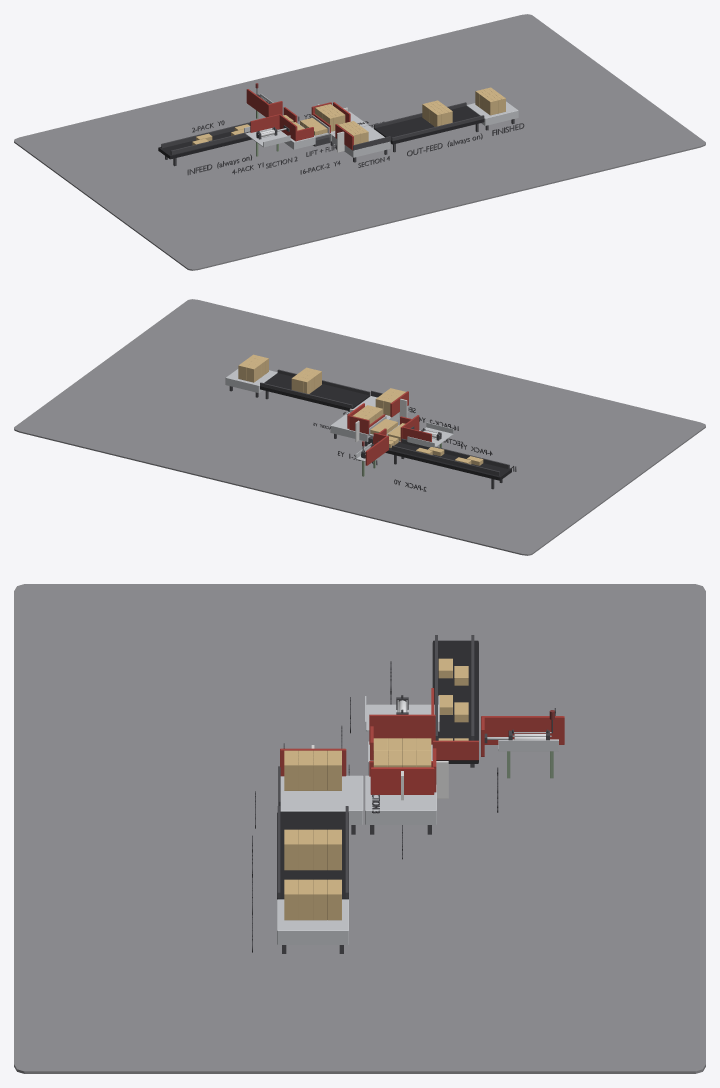
The model's file is pack-machine.glb.
The picture shows the model from 3 angles, top to bottom: view 1: azimuth 30°, elevation 25°; view 2: azimuth 150°, elevation 25°; view 3: azimuth 270°, elevation 25°; orthographic projection. The views are drawn at different scales.
Parts seen in each view (by area): view 1: Floor, OutfeedBed, InfeedBed, Sec4Deck, FinishedDeck, InfeedRailS, OutfeedRailS; view 2: Floor, OutfeedBed, InfeedBed, InfeedRailN, FinishedDeck, Sec3Deck, InfeedRailS, OutfeedRailN; view 3: Floor, InfeedBed, OutfeedBed, Sec4Deck, Sec3Deck, FinishedDeck, Push16aPlateHold, Push4Plate, Push2EntryGate, EndStop.
Part boxes in pixels (x1=…): Floor: x1=14, y1=14, x2=705, y2=270; OutfeedBed: x1=374, y1=106, x2=484, y2=144; InfeedBed: x1=158, y1=129, x2=278, y2=159; Sec4Deck: x1=331, y1=125, x2=390, y2=157; FinishedDeck: x1=466, y1=101, x2=518, y2=125; InfeedRailS: x1=170, y1=131, x2=250, y2=155; OutfeedRailS: x1=391, y1=115, x2=484, y2=140; Floor: x1=14, y1=299, x2=705, y2=555; OutfeedBed: x1=260, y1=373, x2=370, y2=411; InfeedBed: x1=385, y1=441, x2=511, y2=480; InfeedRailN: x1=392, y1=445, x2=499, y2=475; FinishedDeck: x1=225, y1=369, x2=277, y2=392; Sec3Deck: x1=330, y1=412, x2=370, y2=441; InfeedRailS: x1=401, y1=438, x2=509, y2=469; OutfeedRailN: x1=260, y1=382, x2=352, y2=408; Floor: x1=14, y1=584, x2=705, y2=1073; InfeedBed: x1=432, y1=640, x2=478, y2=763; OutfeedBed: x1=277, y1=812, x2=348, y2=899; Sec4Deck: x1=280, y1=775, x2=363, y2=824; Sec3Deck: x1=365, y1=775, x2=436, y2=824; FinishedDeck: x1=277, y1=899, x2=348, y2=944; Push16aPlateHold: x1=370, y1=767, x2=434, y2=794; Push4Plate: x1=369, y1=714, x2=435, y2=744; Push2EntryGate: x1=481, y1=716, x2=564, y2=744; EndStop: x1=432, y1=740, x2=478, y2=760.
Bounding box in the file's own units: 40 × 2.65 × 24.
